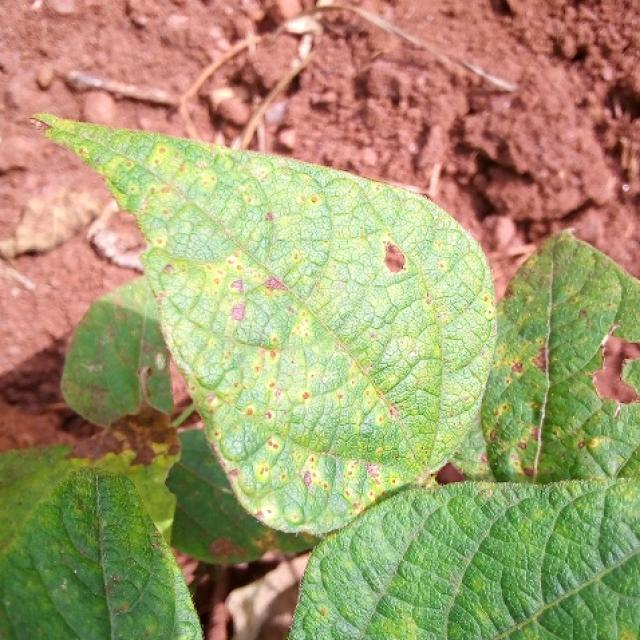mozaik: (554, 317, 639, 449), (354, 217, 437, 306)
